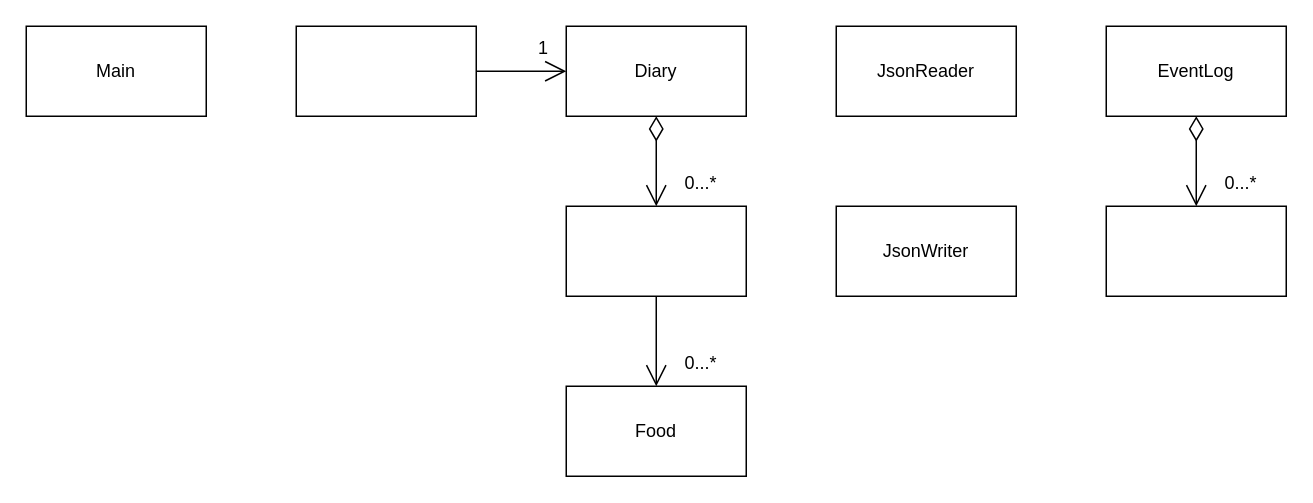
The diagram is 1313 pixels wide and 503 high, and some of its shapes have lost their labels. The shapes that lost their labels are listed below. From the top down, each one's centre as x and y in pixels, then its label:
At [385,70]: "GraphicalMenu".
At [655,250]: "DailyLog".
At [1195,250]: "Event".
